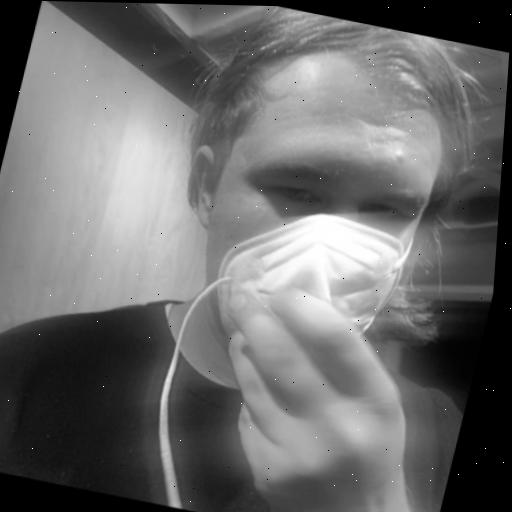mask: (112, 9, 461, 414)
